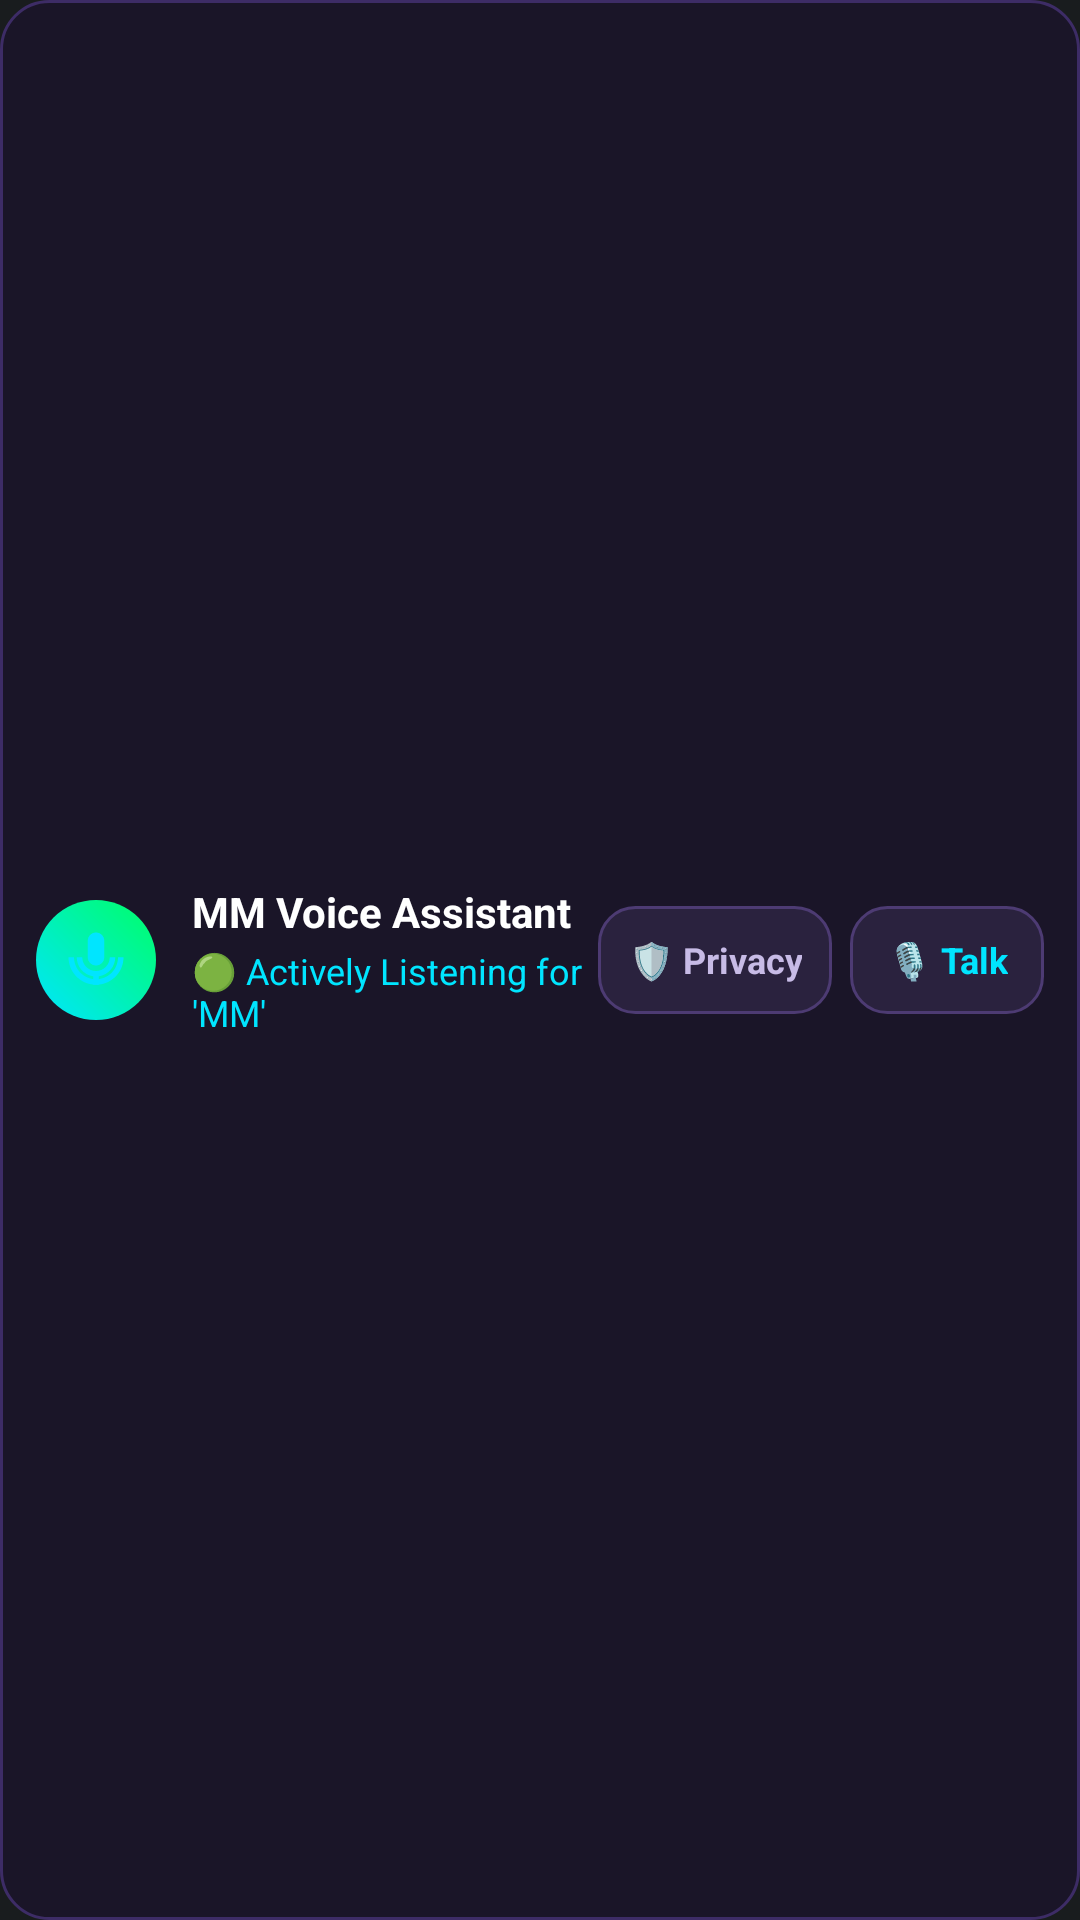

Named icons in this screenshot (1080px x 1920px) and their centers, [x,y]:
Assistant State: [96,960]
